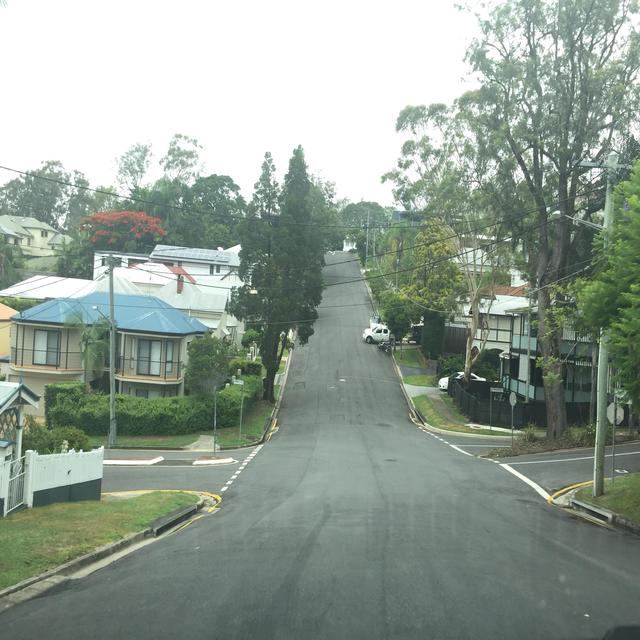Car: (363, 314, 393, 345), (438, 372, 485, 389)
Manhole: (516, 499, 538, 503)
Motorcycle: (377, 339, 391, 355)
Vegetation: (21, 306, 110, 457)
